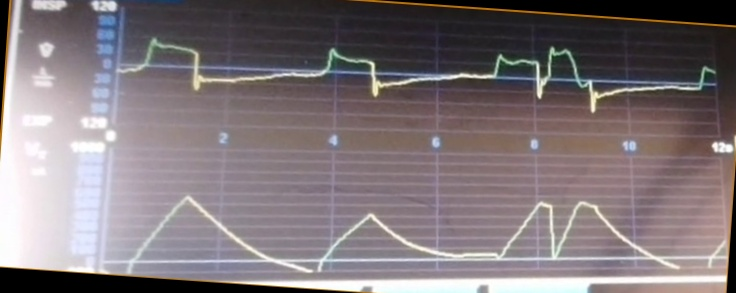Double_Triggering Flow: (124, 26, 718, 129)
Double_Triggering Volume: (121, 175, 726, 275)
